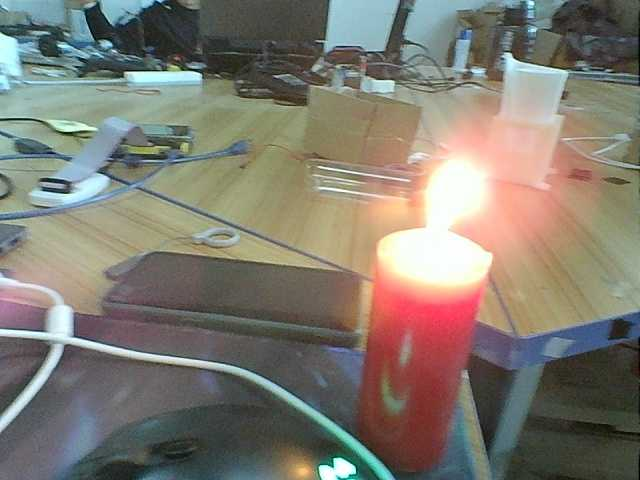candle: (350, 223, 472, 480)
fire: (405, 148, 496, 243)
